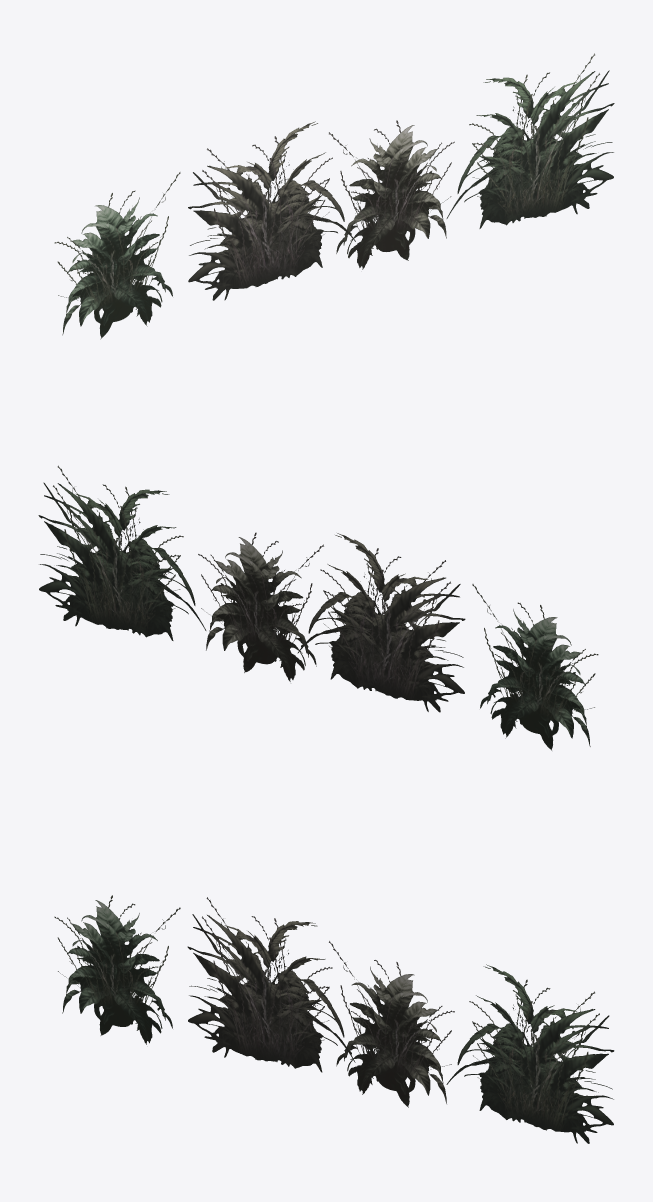
Rendered from Grass.fbx.
3 views of the same model, one above another, from view 1: azimuth 30°, elevation 25°; view 2: azimuth 150°, elevation 25°; view 3: azimuth 330°, elevation 25° (orthographic).
Parts seen in each view (by area): view 1: Grass4, Grass2, Grass1, Grass3; view 2: Grass4, Grass2, Grass1, Grass3; view 3: Grass2, Grass4, Grass1, Grass3.
Part boxes in pixels (x1,y1,x2,y2): Grass4: (446, 53, 614, 228); Grass2: (188, 121, 355, 300); Grass1: (54, 172, 180, 339); Grass3: (329, 120, 454, 269); Grass4: (38, 465, 206, 640); Grass2: (297, 533, 465, 712); Grass1: (472, 584, 598, 750); Grass3: (198, 532, 323, 681); Grass2: (187, 897, 355, 1072); Grass4: (446, 964, 614, 1143); Grass1: (54, 895, 180, 1044); Grass3: (329, 941, 454, 1107).
Bounding box in the file's own units: 590 × 210 × 0.4091.
1 material, 1 textured.
